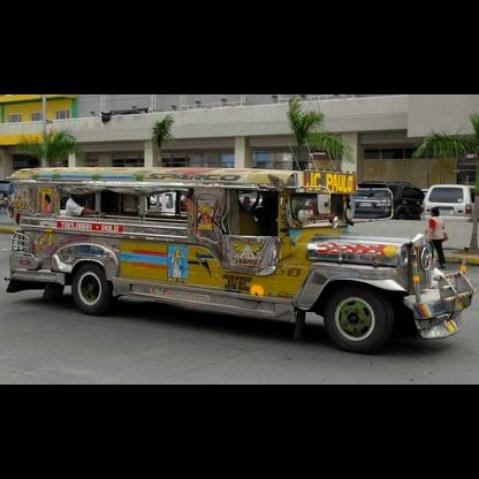jeepney: (4, 147, 462, 357)
